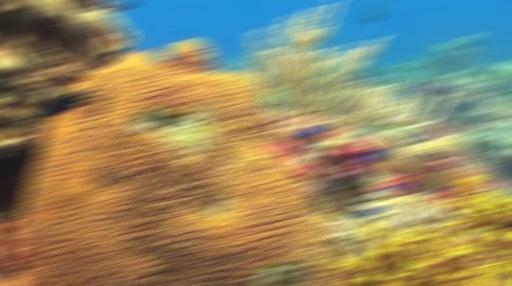Fish: (38, 93, 85, 117), (312, 176, 333, 207), (359, 148, 384, 163), (298, 124, 325, 137), (353, 206, 384, 217), (107, 0, 134, 11), (365, 3, 380, 22), (383, 183, 404, 196), (408, 181, 425, 190), (382, 184, 403, 191), (427, 186, 444, 194), (364, 195, 379, 203), (217, 64, 230, 72)
